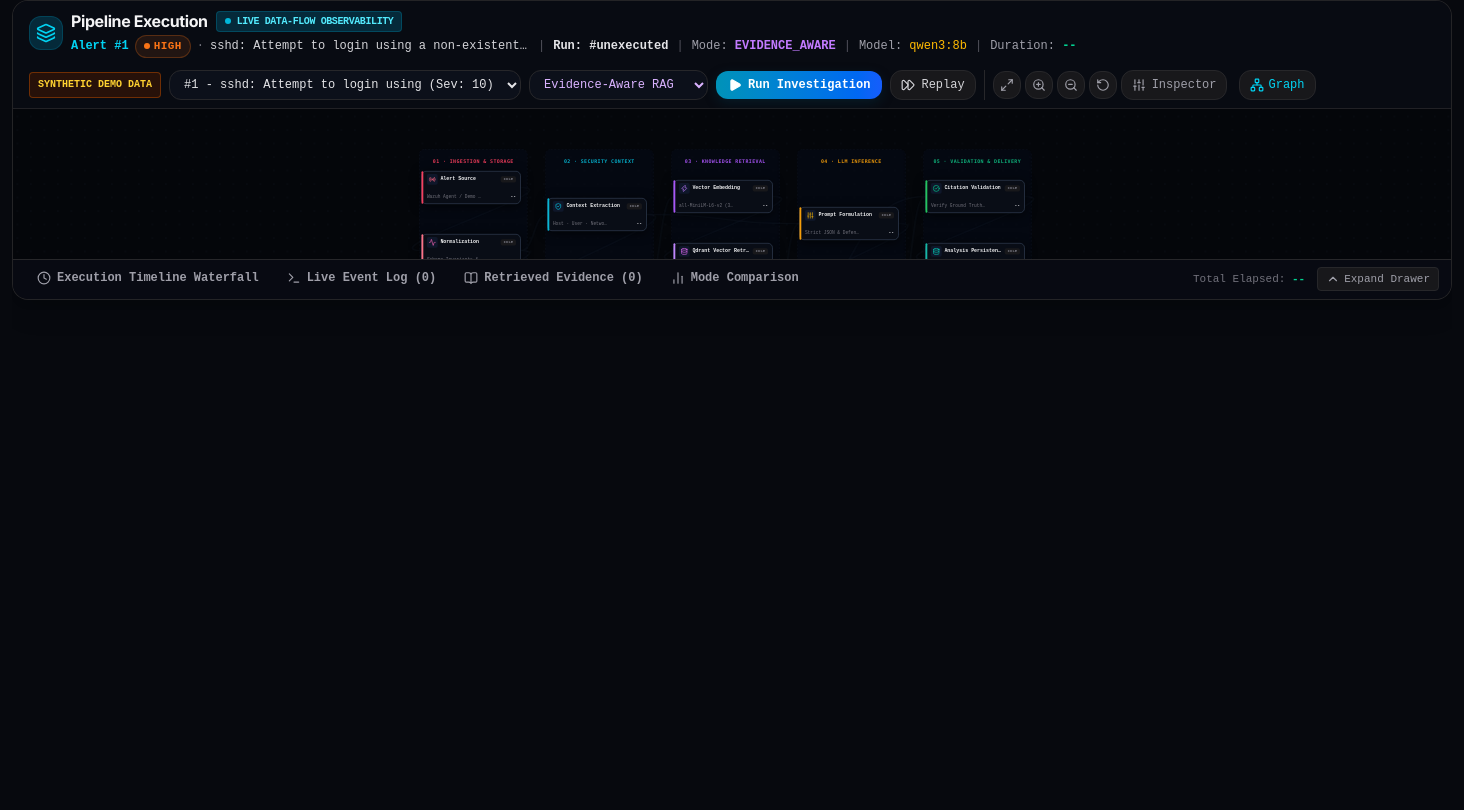
Scenario: ExecutionTracesPage › opens and updates Technical Inspector when selecting a canvas node or waterfall item
# Inspector is default closed to maximize canvas viewport. Clicking opens it.
Click the button "Inspector": {"x": 1174, "y": 85} [1121,70,1228,100]
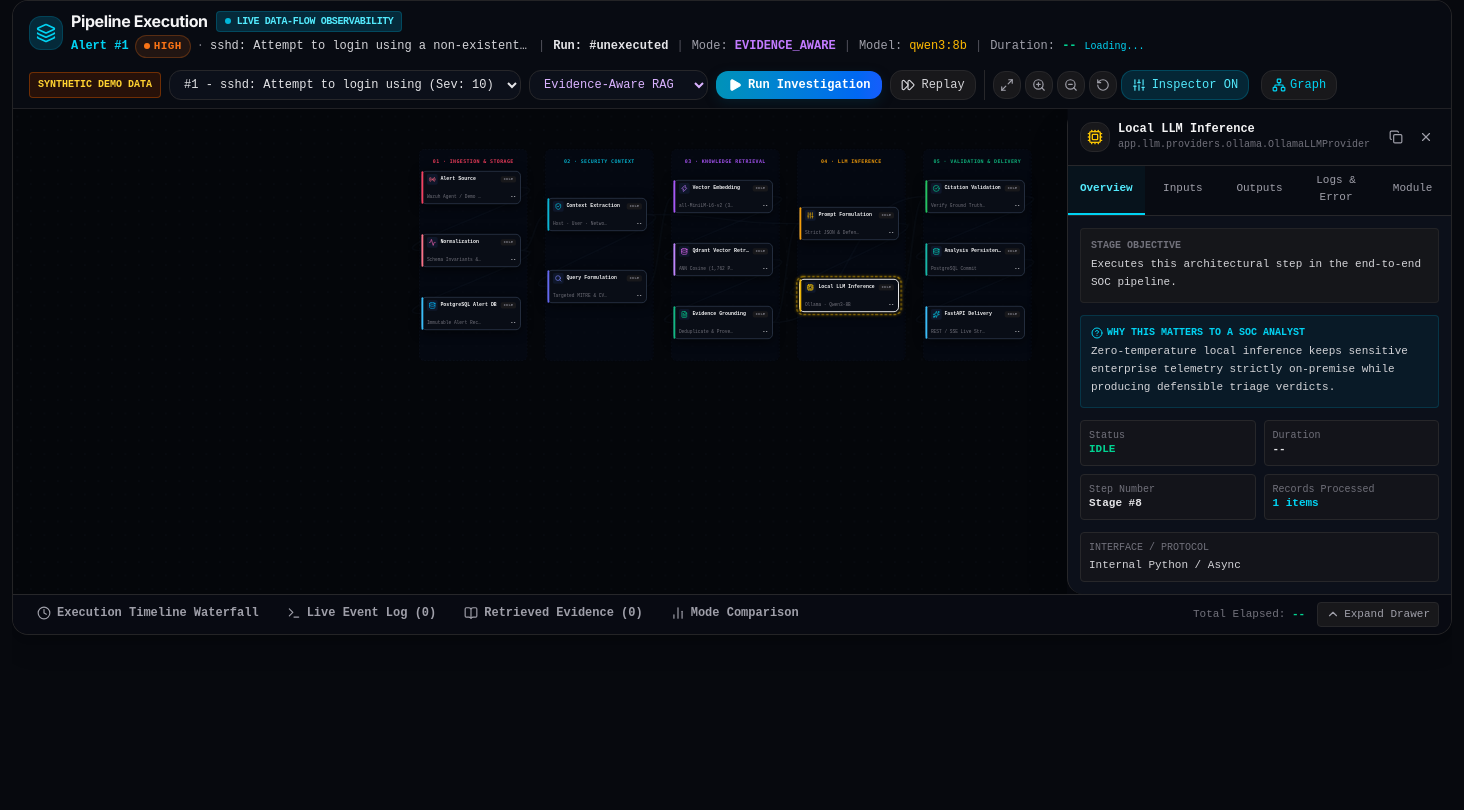
Now the text "Stage Objective" is shown, box [1091,240,1181,251]
Now the text "Stage #8" is shown, box [1089,497,1142,509]
Now the text "Why This Matters to a SOC Analyst" is shown, box [1107,326,1305,339]
# Switch inspector tab to Inputs
Click the button "Inputs": {"x": 1183, "y": 190} [1145,166,1221,215]
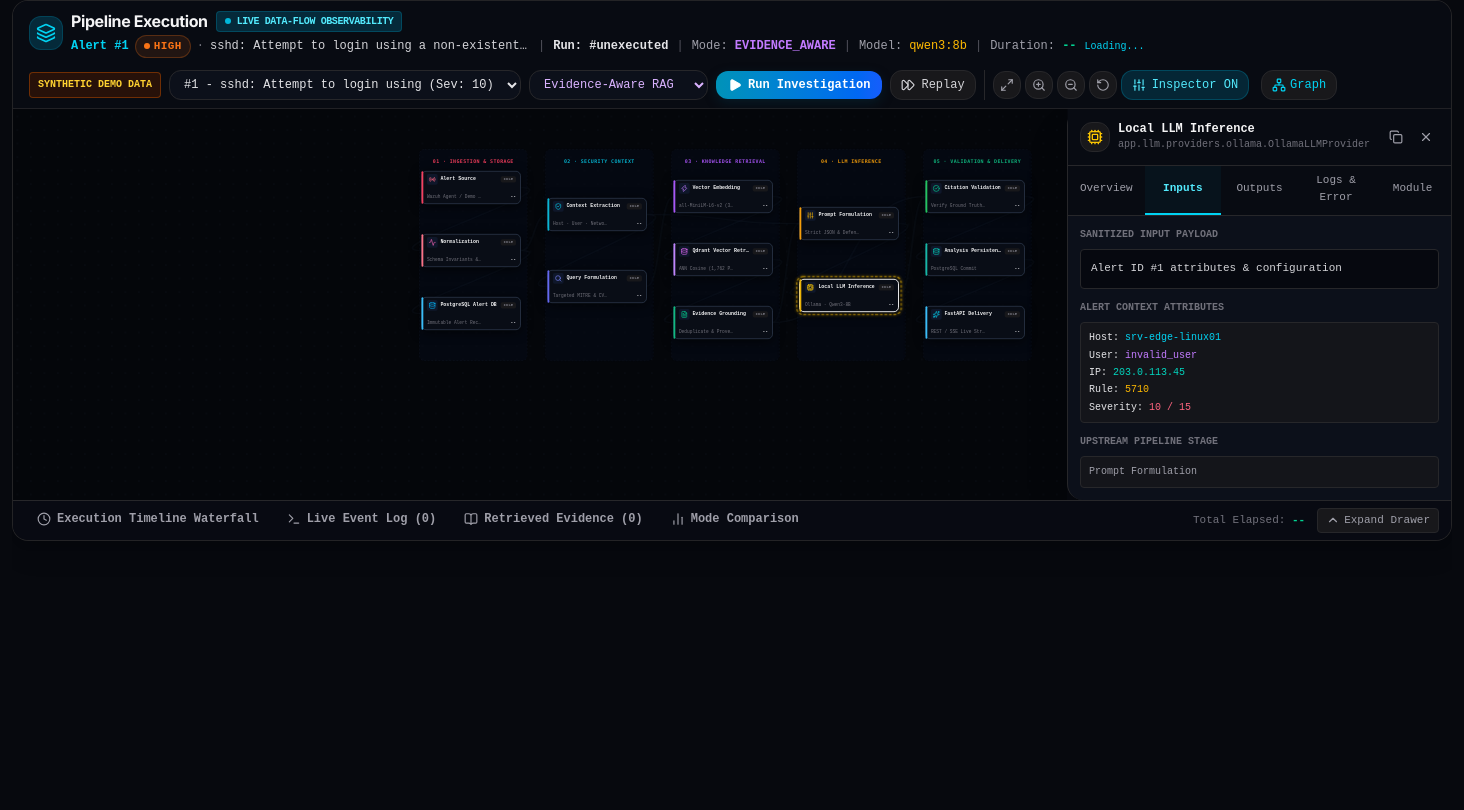
Now the text "Sanitized Input Payload" is shown, box [1080,229,1218,240]
# Switch to Outputs
Click the button "Outputs": {"x": 1260, "y": 190} [1221,166,1298,215]
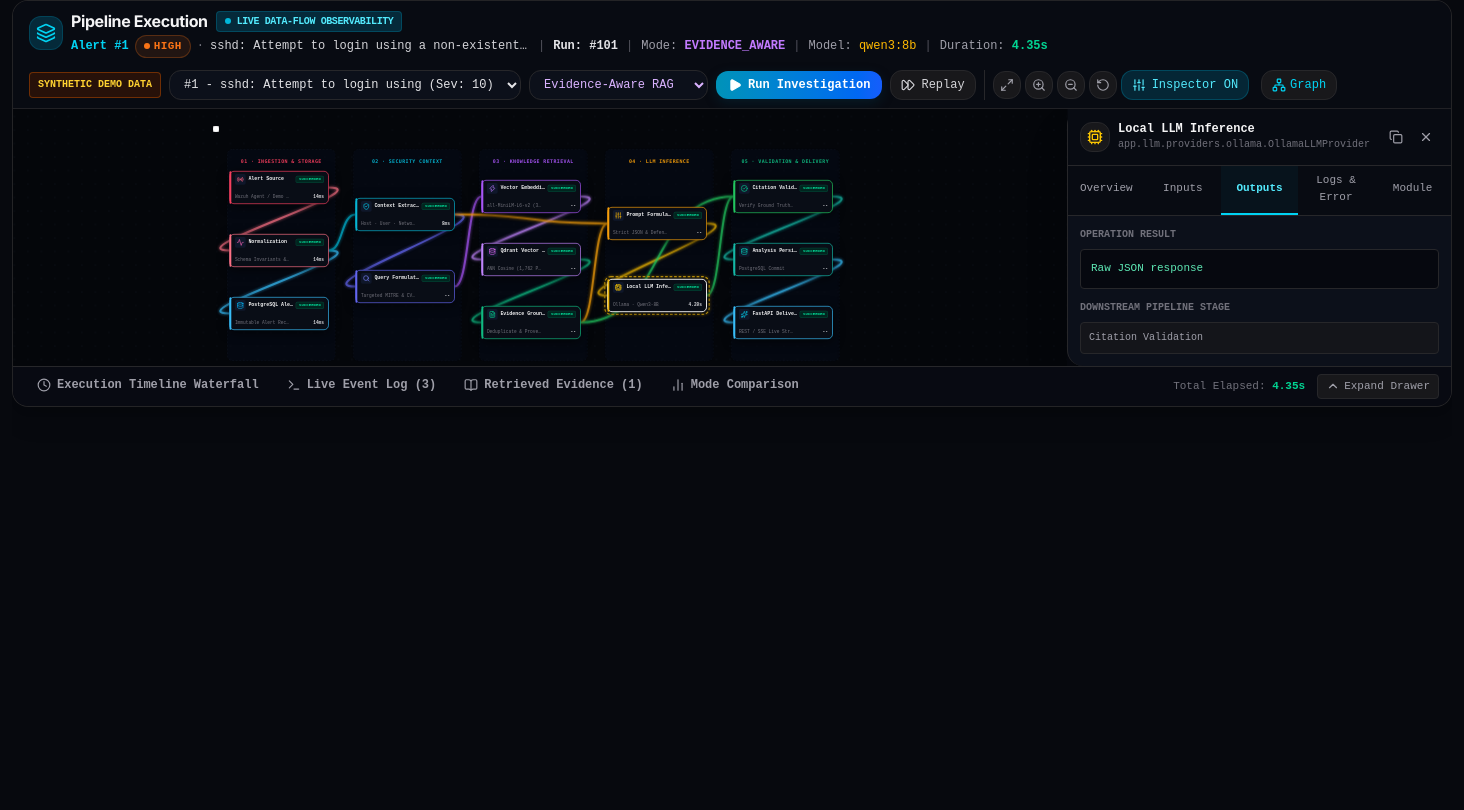
Now the text "Operation Result" is shown, box [1080,229,1176,240]
